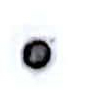cancer: (3, 21, 71, 86)
